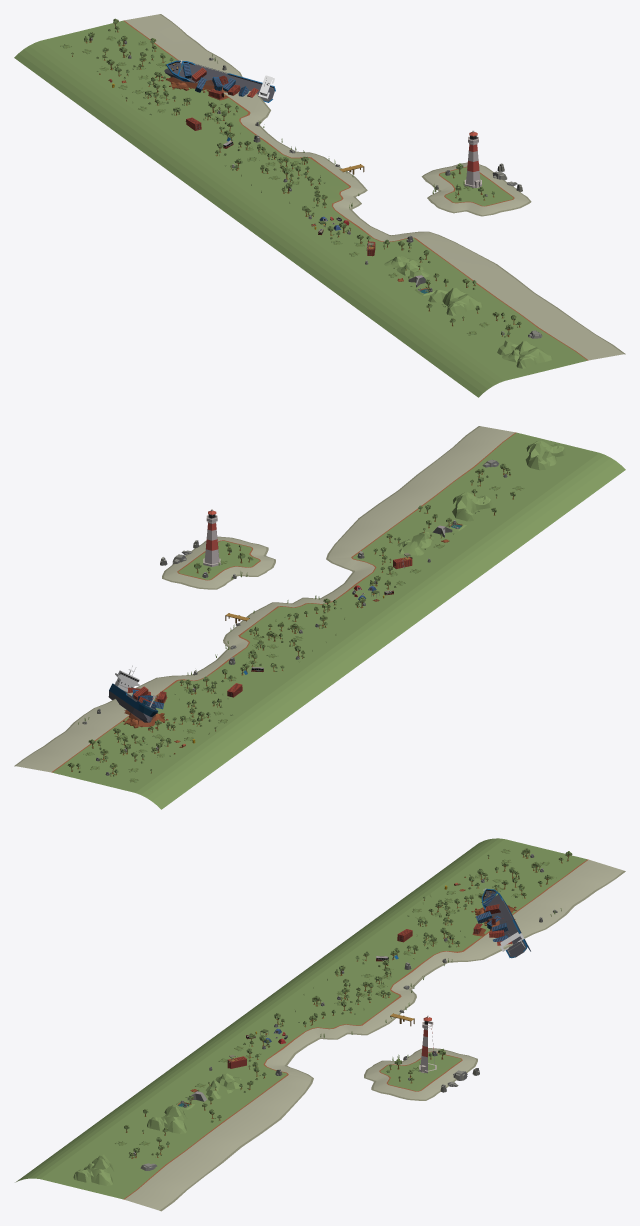
Rendered from _lvl_beach_bg_1.glb.
The picture shows the model from 3 angles, top to bottom: view 1: azimuth 30°, elevation 25°; view 2: azimuth 150°, elevation 25°; view 3: azimuth 330°, elevation 25°; orthographic projection.
Parts seen in each view (by area): view 1: bg_ground_1, bg_near_plane_beach, SA_Env_Island_1, SA_Env_ShipCrash_01, SM_Env_Hills_Pack_1, SA_Bld_Lighthouse_01; view 2: bg_ground_1, bg_near_plane_beach, SA_Env_Island_1, SM_Env_Hills_Pack_1, SA_Env_ShipCrash_01, SA_Bld_Lighthouse_01; view 3: bg_ground_1, bg_near_plane_beach, SA_Env_Island_1, SA_Env_ShipCrash_01, SM_Env_Hills_Pack_1.
Boxes of the visible parts, <box> form: bg_ground_1: <box>40,14,625,380</box>; bg_near_plane_beach: <box>14,41,504,397</box>; SA_Env_Island_1: <box>421,162,531,216</box>; SA_Env_ShipCrash_01: <box>161,60,275,102</box>; SM_Env_Hills_Pack_1: <box>384,255,552,368</box>; SA_Bld_Lighthouse_01: <box>464,130,481,187</box>; bg_ground_1: <box>14,426,599,792</box>; bg_near_plane_beach: <box>135,453,625,809</box>; SA_Env_Island_1: <box>162,536,275,589</box>; SM_Env_Hills_Pack_1: <box>397,440,566,555</box>; SA_Env_ShipCrash_01: <box>108,665,168,730</box>; SA_Bld_Lighthouse_01: <box>203,509,220,566</box>; bg_ground_1: <box>40,839,625,1211</box>; bg_near_plane_beach: <box>15,838,504,1182</box>; SA_Env_Island_1: <box>364,1048,477,1100</box>; SA_Env_ShipCrash_01: <box>471,888,530,958</box>; SM_Env_Hills_Pack_1: <box>73,1073,241,1185</box>.
Bounding box in the file's own units: 137 × 36.53 × 450.
Materials: 1 (1 with a texture image).
